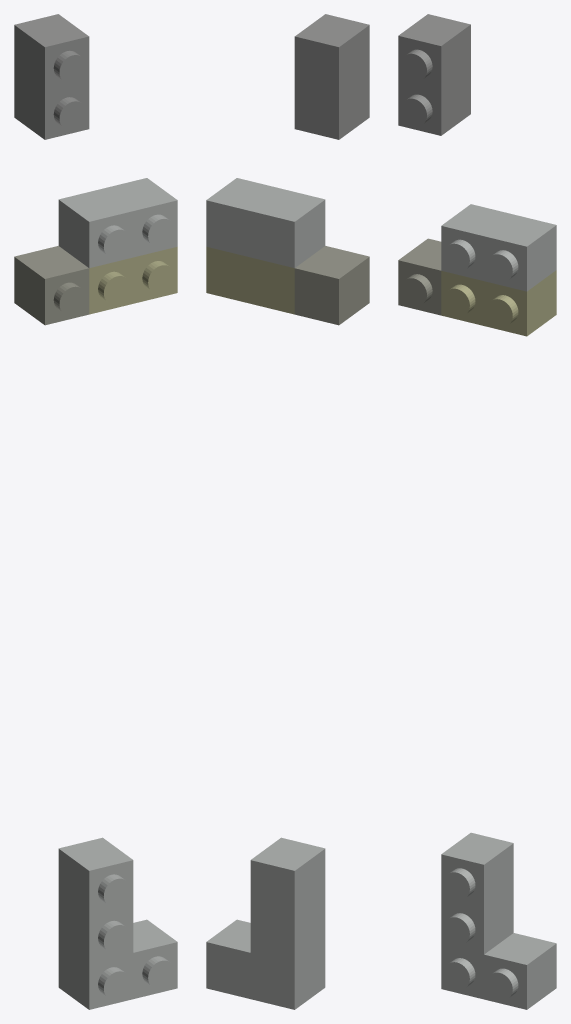
Rendered from current.glb.
3 views of the same model, side by side, from view 1: azimuth 30°, elevation 25°; view 2: azimuth 150°, elevation 25°; view 3: azimuth 330°, elevation 25° (orthographic). The views are drawn at different scales.
Parts seen in each view (by area): view 1: world; view 2: world; view 3: world.
Boxes of the visible parts, box(x1,y1,x2,y2) form: world: box(14, 14, 177, 1009); world: box(206, 14, 369, 1009); world: box(398, 14, 556, 1009).
Bounding box in the file's own units: 24 × 168 × 11.4.
